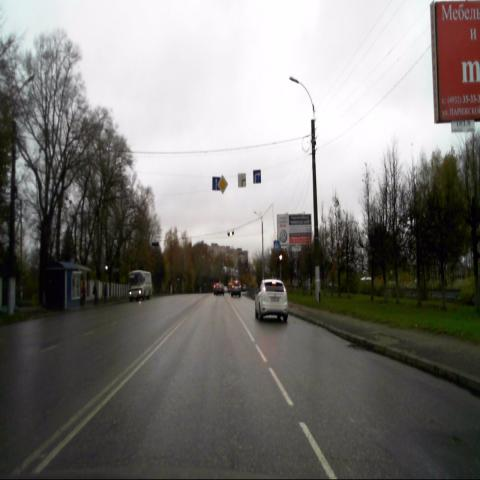2_1: (218, 175, 228, 193)
5_15_2: (212, 176, 220, 191), (253, 170, 260, 184)
8_13: (238, 173, 246, 187)
